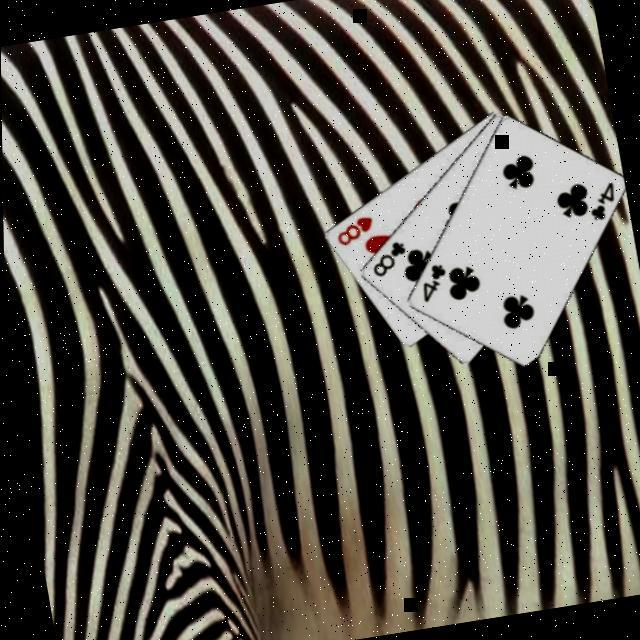4C: (415, 258, 454, 304), (584, 177, 622, 223)
8C: (366, 236, 414, 280)
8H: (332, 211, 380, 248)
